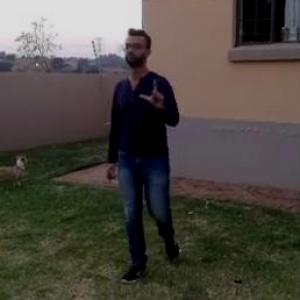land_hand: (136, 71, 173, 114)
